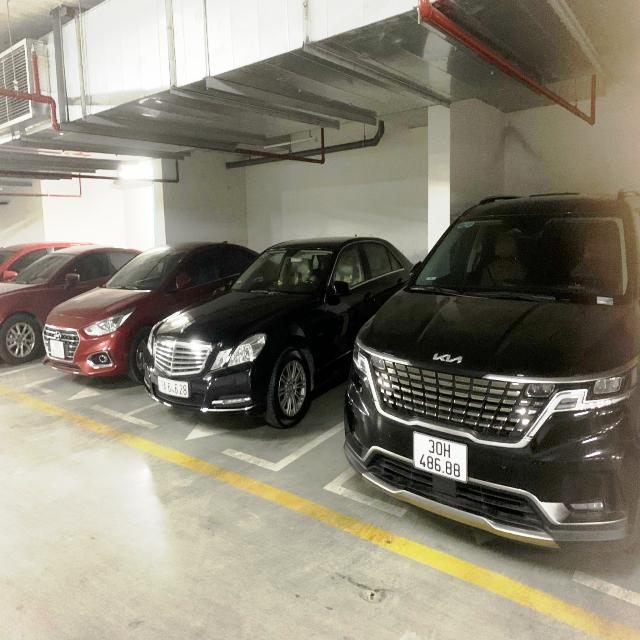license_plate: (413, 430, 469, 486), (158, 375, 190, 402), (48, 338, 67, 360)
